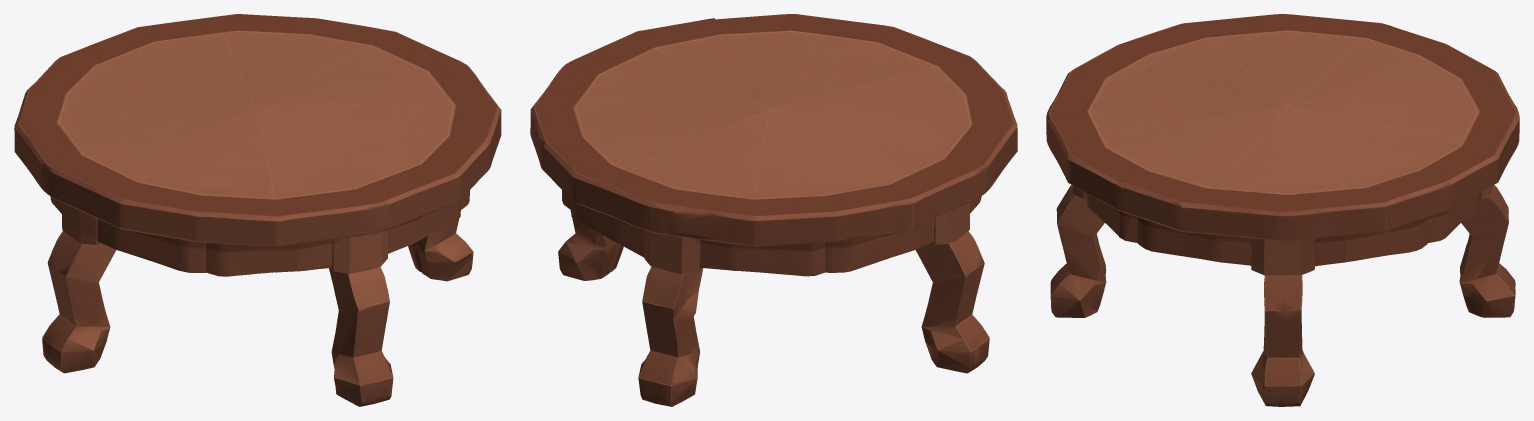
The model's file is soban.glb.
3 renders of one model, left to right at view 1: azimuth 30°, elevation 25°; view 2: azimuth 150°, elevation 25°; view 3: azimuth 270°, elevation 25°, orthographic. The views are drawn at different scales.
Visible parts, largest first — view 1: Mesh_0; view 2: Mesh_0; view 3: Mesh_0.
Part boxes in pixels (x1,y1,x2,y2): Mesh_0: (14,14,501,406); Mesh_0: (530,14,1017,406); Mesh_0: (1046,14,1519,406).
Bounding box in the file's own units: 2 × 0.9588 × 2.
Materials: 1 (1 with a texture image).
